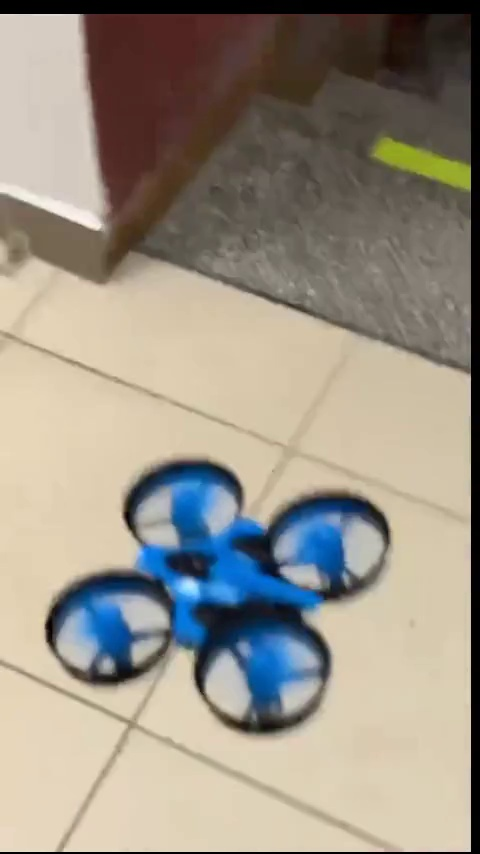drone: (53, 458, 391, 733)
